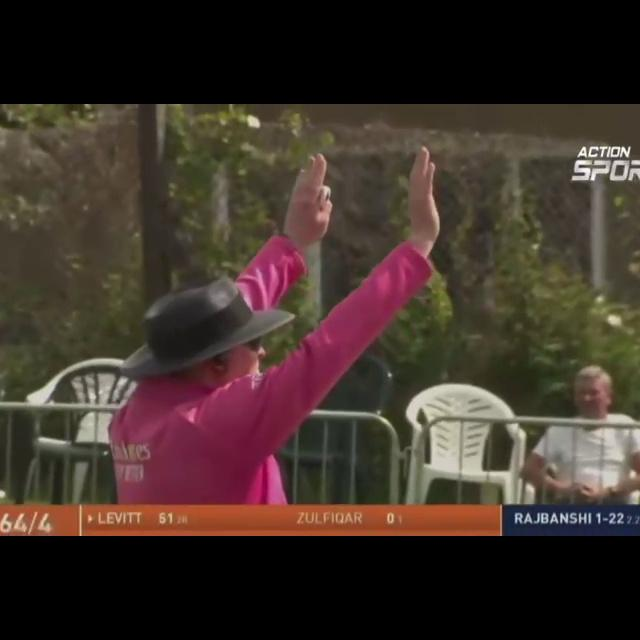umpire: (56, 104, 607, 496)
